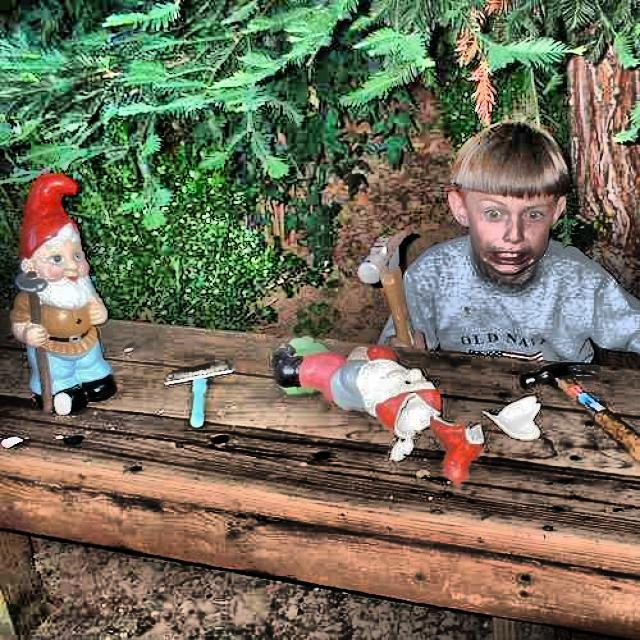hammer: (519, 359, 640, 479), (361, 227, 423, 358)
